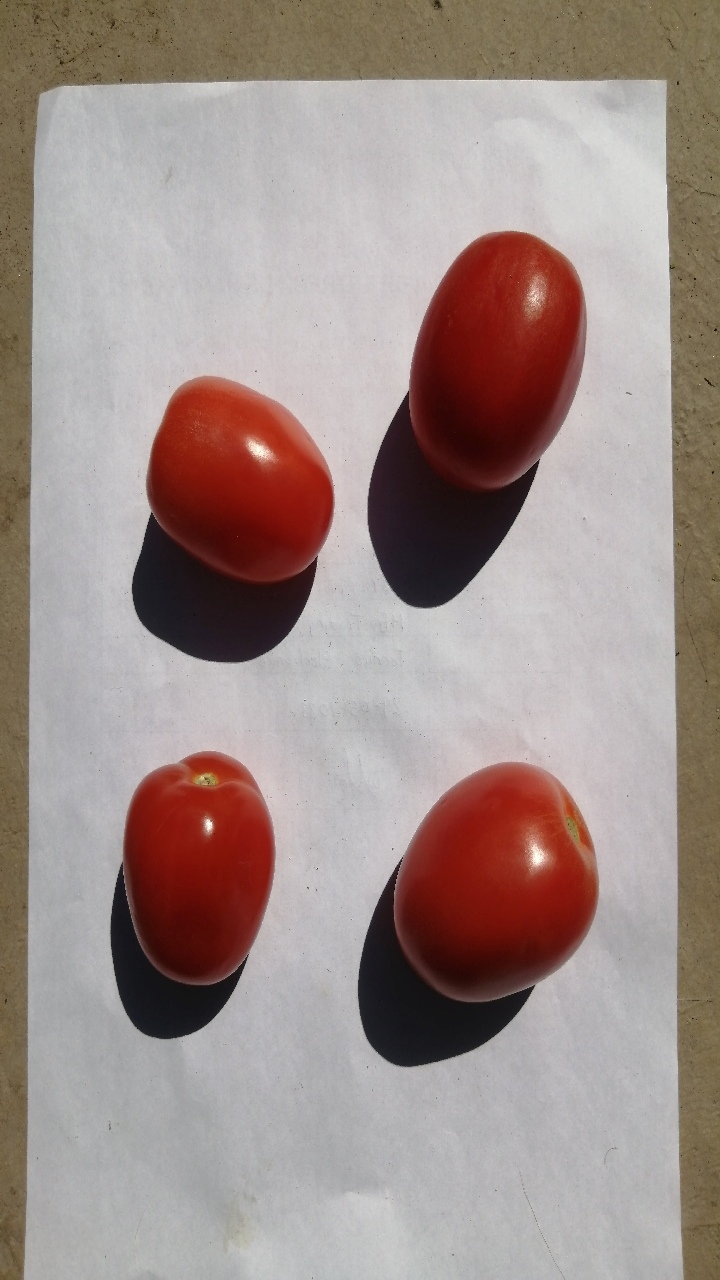tomateRojo: (363, 742, 612, 1032), (391, 205, 583, 495), (137, 359, 346, 603), (98, 737, 286, 1000)
